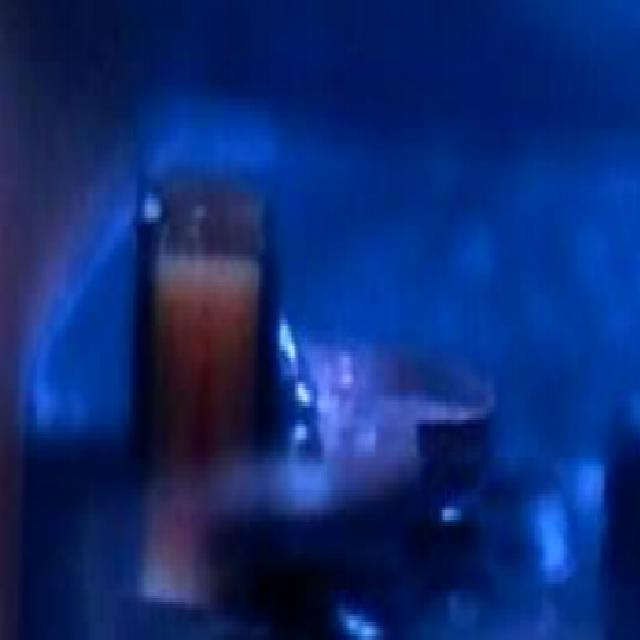No Good: (262, 276, 347, 482)
